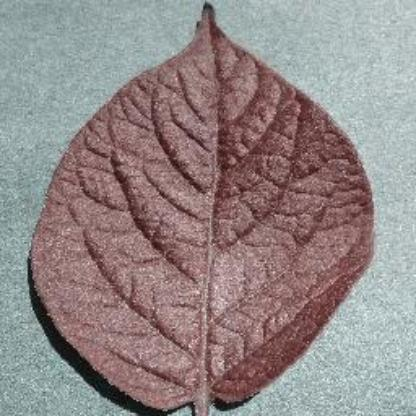Healthy-plant: (28, 4, 376, 416)
